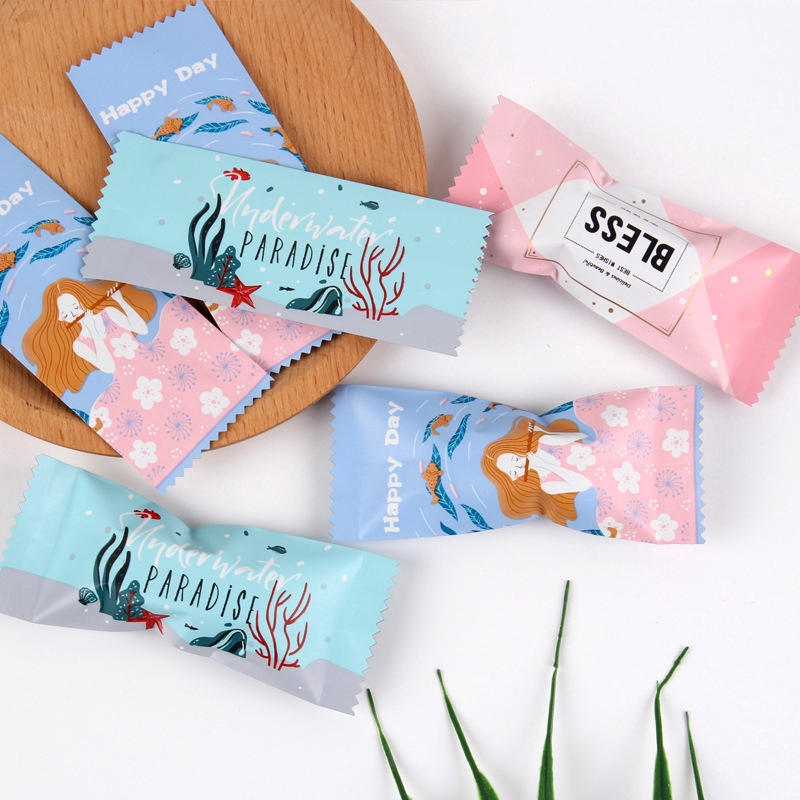Snack: (1, 446, 403, 724)
